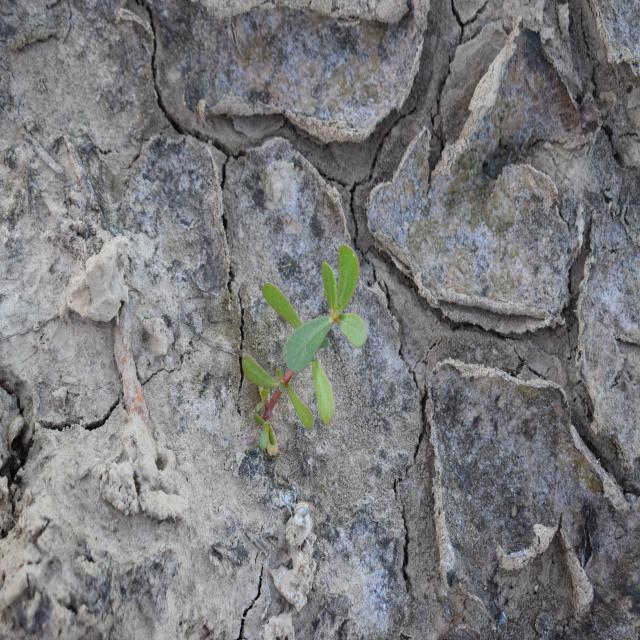Purslane: (241, 244, 368, 458)
